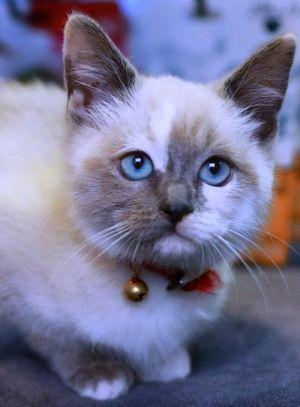siamese: (43, 13, 299, 277)
